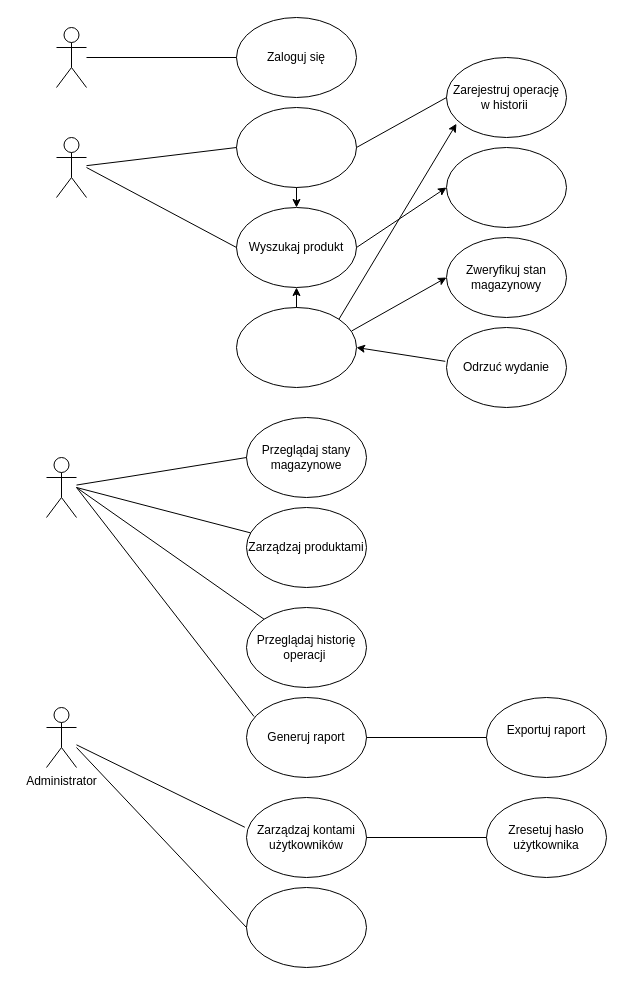
Some shapes in this 624 by 985 pixel diagram are drawn without their labels. The shapes that lost their labels are listed below. From the top down, each one's box as (x1, y1, x2, y2) in pixels, then its label:
(56, 26, 86, 88): Użytkownik systemu
(56, 136, 86, 198): Magazynier
(236, 106, 356, 188): Przyjmij towar
(446, 146, 566, 228): Wyświetl lokalizację produktu
(236, 306, 356, 388): wydaj towar
(46, 456, 76, 518): Kierownik magazynu
(246, 886, 366, 968): Nadaj rolę użytkownikowi
